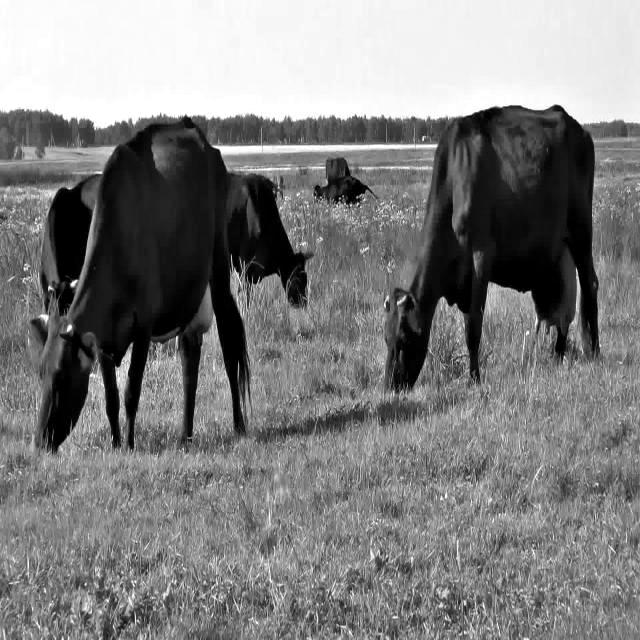COW: (32, 119, 249, 451), (385, 106, 599, 391)
